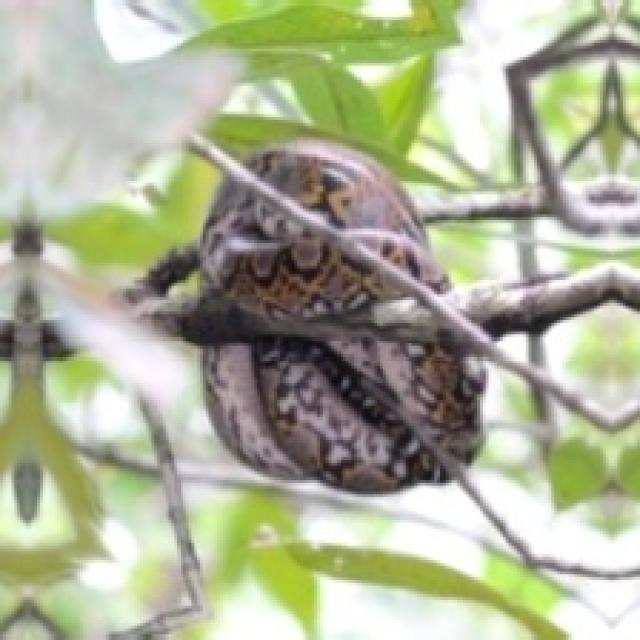reticulated python: (129, 177, 483, 489), (249, 143, 446, 291)
